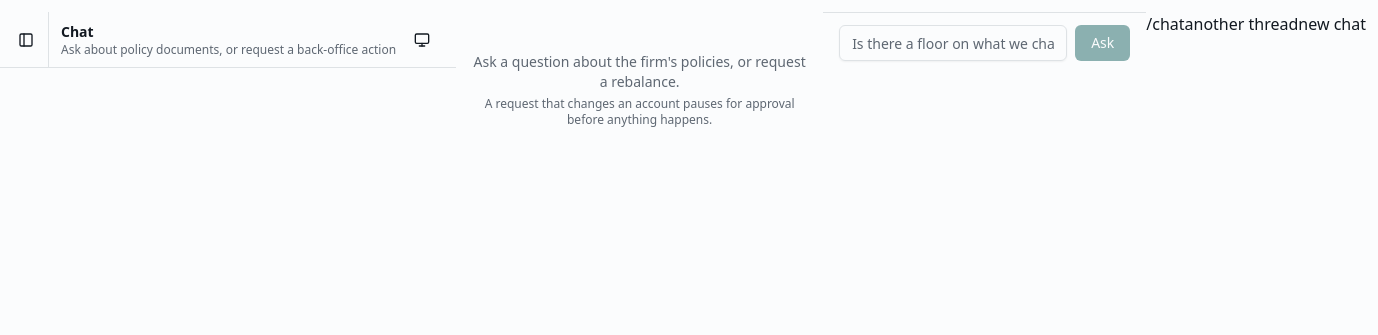
Test: ChatPage › surfaces a rejected decision instead of pretending it worked
Type "Rebalance AC-0042" into the field named "Message".
click(953, 43); type("Rebalance AC-0042")  # box x1=839 y1=25 x2=1067 y2=61
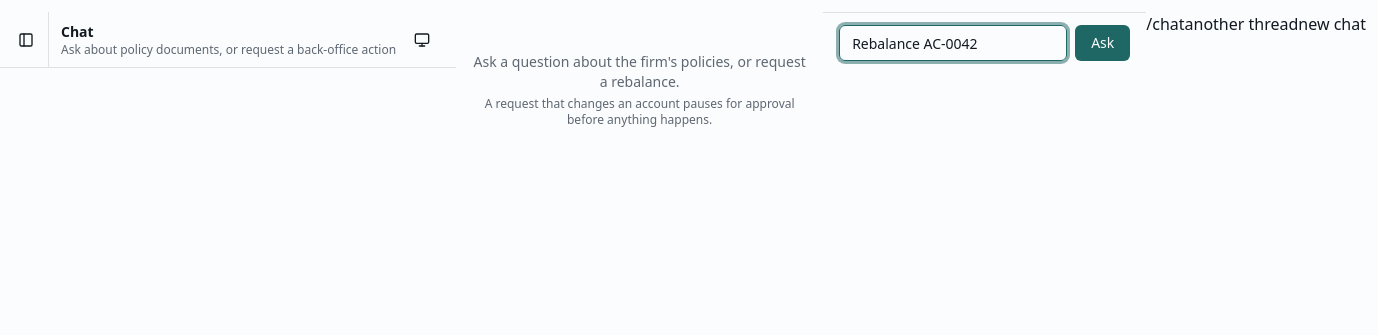
Click the button "Ask".
click(1103, 43)  # box x1=1075 y1=25 x2=1130 y2=61
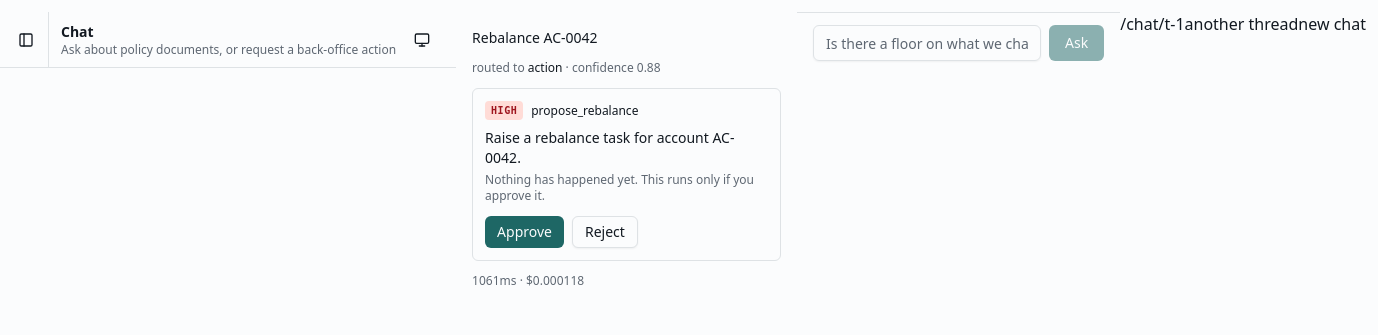
Expected: the element with test id "approval" is shown, x1=472 y1=88 x2=781 y2=261
Click the button "Approve".
click(525, 232)  # box x1=485 y1=216 x2=564 y2=248
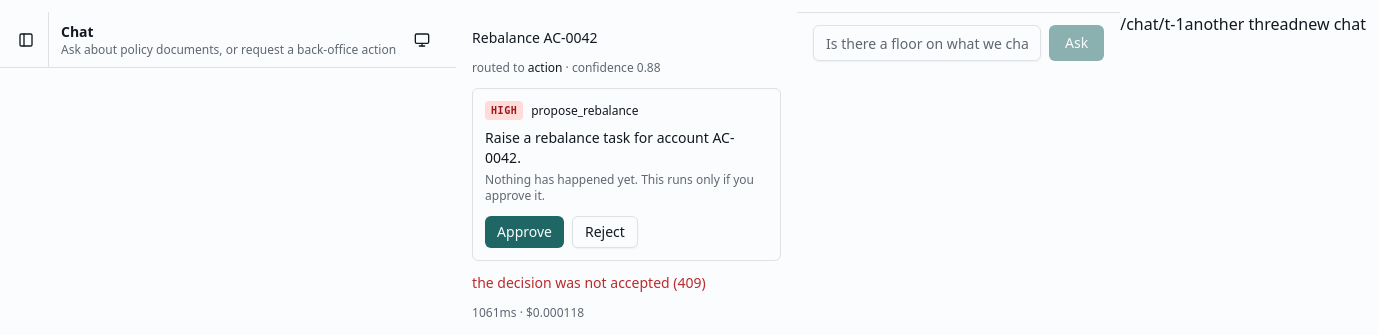
Expected: the text with test id "error" shows "409", x1=472 y1=273 x2=706 y2=292
